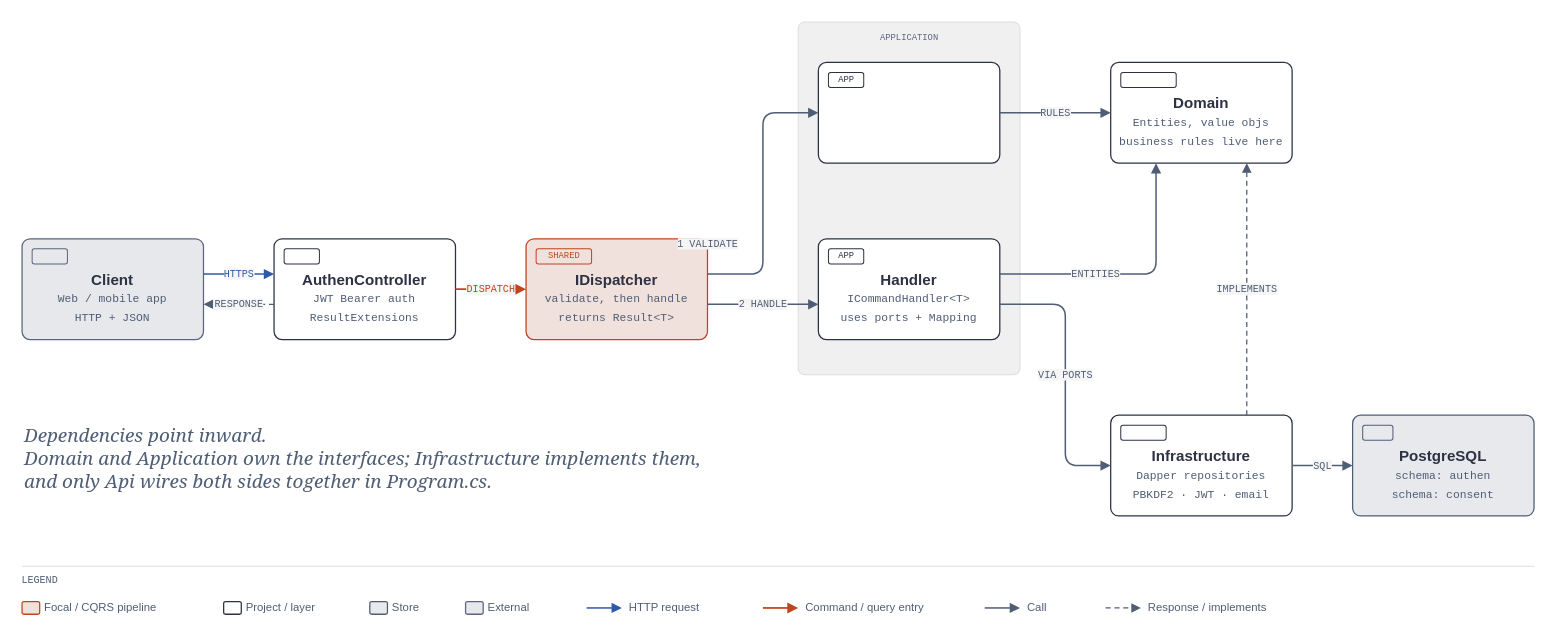
Some shapes in this 1557 by 640 pixel diagram are drawn without their labels. The shapes that lost their labels are listed below. From the top down, each one's box as (x1, y1, x2, y2) in pixels, then its label:
(1120, 71, 1176, 87): DOMAIN
(817, 61, 1000, 163): Validator XxxCommandValidator asks Domain value objs
(31, 248, 67, 264): EXT
(283, 248, 319, 264): API
(1120, 424, 1166, 440): INFRA
(1362, 424, 1393, 440): DB
